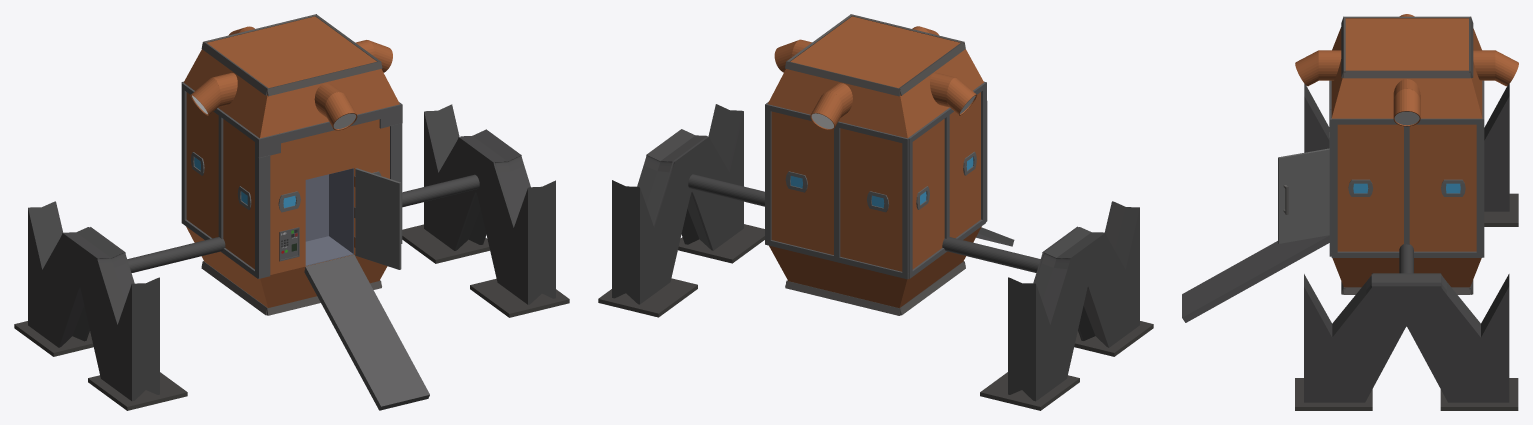
File: VrPuzzleShip.fbx
The picture shows the model from 3 angles, left to right: view 1: azimuth 30°, elevation 25°; view 2: azimuth 150°, elevation 25°; view 3: azimuth 270°, elevation 25°; orthographic projection.
Parts seen in each view (by area): view 1: main-body, landing-gear, landing-gear.001, door, Cube.022, Cube.024, spotlight, spotlight.002, Cube.023, terminal, spotlight.003; view 2: main-body, landing-gear, landing-gear.001, spotlight.001, spotlight.002, spotlight.003; view 3: main-body, landing-gear.001, landing-gear, door, spotlight, spotlight.001, spotlight.003.
Part boxes in pixels (x1,y1,x2,y2): main-body: (181, 14, 429, 410); landing-gear: (14, 201, 225, 410); landing-gear.001: (402, 104, 569, 317); door: (355, 168, 401, 269); Cube.022: (329, 168, 353, 254); Cube.024: (305, 174, 328, 241); spotlight: (314, 83, 357, 130); spotlight.002: (190, 72, 237, 115); Cube.023: (305, 236, 352, 265); terminal: (279, 227, 299, 261); spotlight.003: (355, 40, 392, 72); main-body: (765, 14, 1014, 315); landing-gear: (942, 201, 1153, 410); landing-gear.001: (598, 104, 764, 317); spotlight.001: (810, 83, 852, 130); spotlight.002: (930, 72, 976, 115); spotlight.003: (774, 39, 811, 72); main-body: (1182, 16, 1484, 322); landing-gear.001: (1295, 244, 1518, 410); landing-gear: (1304, 84, 1518, 226); door: (1278, 148, 1329, 243); spotlight: (1295, 50, 1341, 86); spotlight.001: (1473, 50, 1518, 86); spotlight.003: (1393, 79, 1420, 126).
Bounding box in the file's own units: 1090 × 638 × 728.
